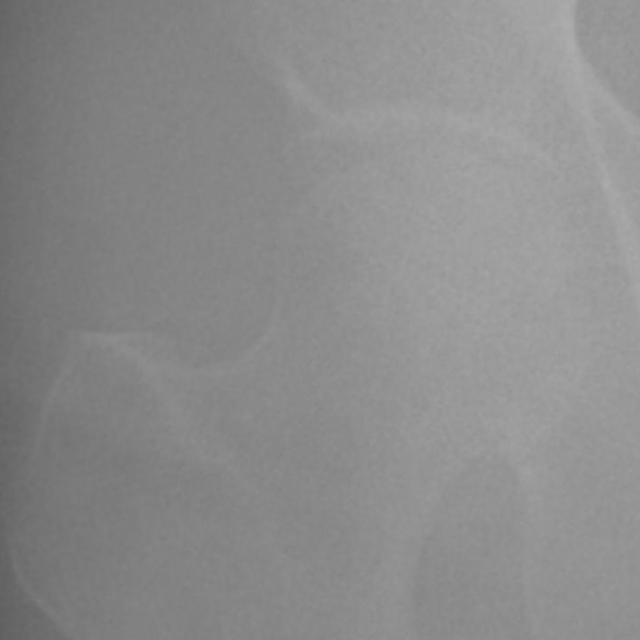Fitted_femural_head: (334, 143, 432, 334)
